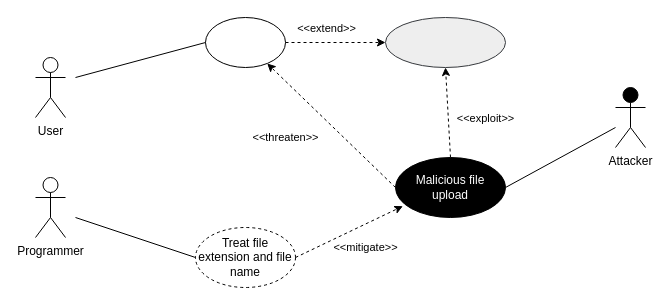
Some shapes in this 670 by 305 pixel diagram are drawn without their labels. Here are the shapes that lost their labels. From the top down, the centre of each, then its label:
At [245,42]: "Upload file".
At [445,42]: "Insufficient file validation".
